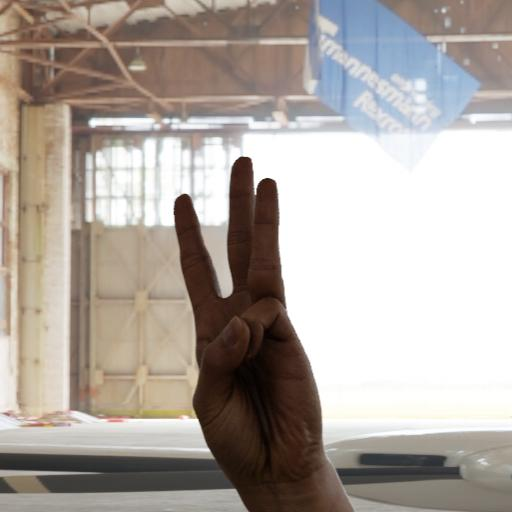W: (153, 147, 343, 512)
